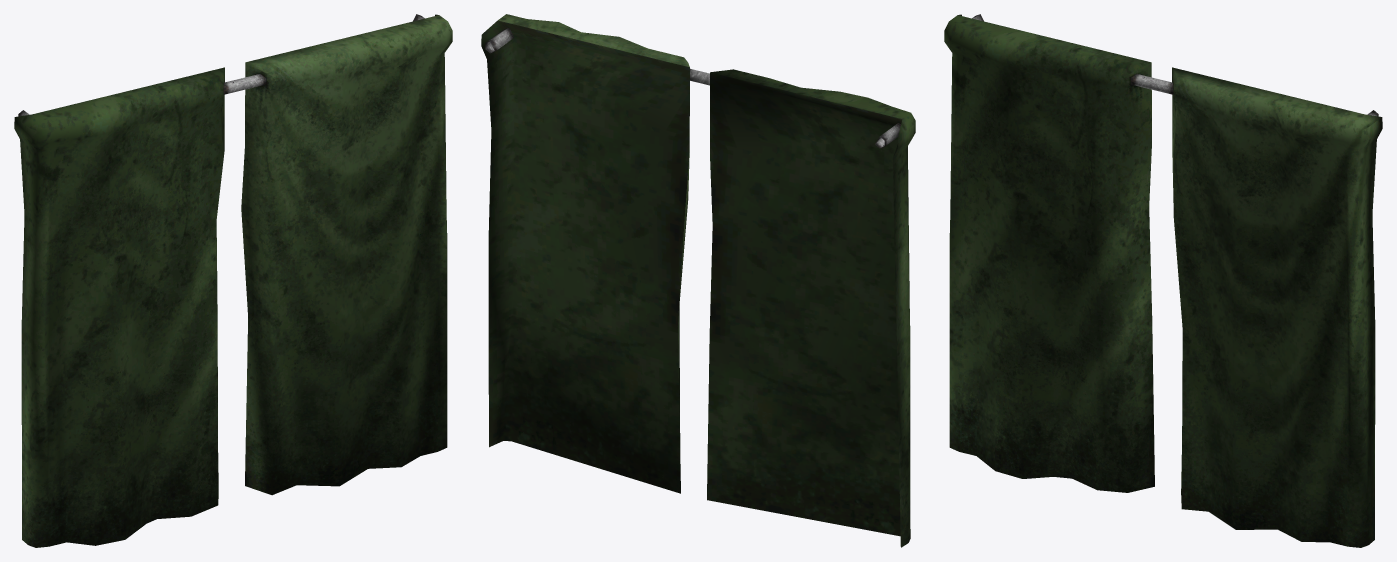
File: curtain07_closed.dae
3 views of the same model, side by side, from view 1: azimuth 30°, elevation 25°; view 2: azimuth 150°, elevation 25°; view 3: azimuth 330°, elevation 25° (orthographic).
Parts seen in each view (by area): view 1: curtain01_closed; view 2: curtain01_closed; view 3: curtain01_closed.
Boxes of the visible parts, left/top/right/bottom form: curtain01_closed: left=14, top=14, right=452, bottom=547; curtain01_closed: left=481, top=14, right=915, bottom=547; curtain01_closed: left=944, top=14, right=1382, bottom=547.
Bounding box in the file's own units: 3.74 × 3.68 × 0.508.
